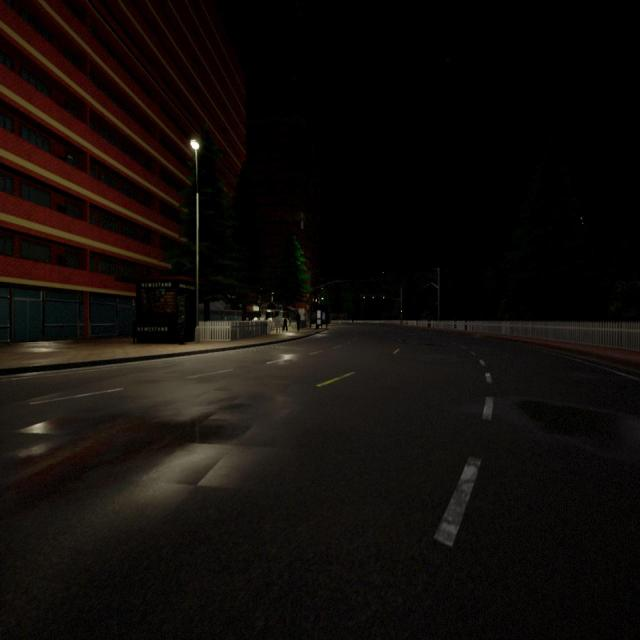traffic_light: (363, 296, 365, 300), (401, 309, 402, 313), (373, 296, 374, 299), (383, 296, 384, 299)
